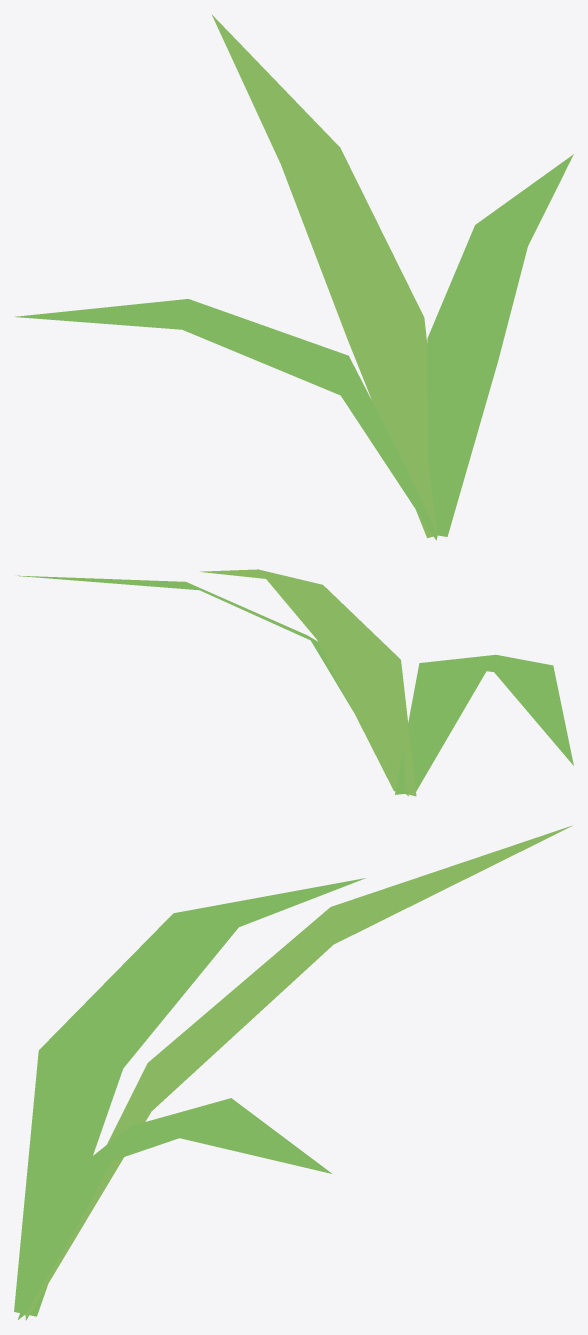
File: Plant_e_TwoS_03.fbx
3 renders of one model, top to bottom at view 1: azimuth 30°, elevation 25°; view 2: azimuth 150°, elevation 25°; view 3: azimuth 270°, elevation 25°, orthographic. The views are drawn at different scales.
Visible parts, largest first — view 1: Plant_e_TwoS_03; view 2: Plant_e_TwoS_03; view 3: Plant_e_TwoS_03.
Boxes of the visible parts, left/top/right/bottom form: Plant_e_TwoS_03: left=14, top=14, right=573, bottom=540; Plant_e_TwoS_03: left=17, top=569, right=573, bottom=796; Plant_e_TwoS_03: left=14, top=825, right=572, bottom=1320.
Bounding box in the file's own units: 0.6634 × 0.4303 × 0.4534.
